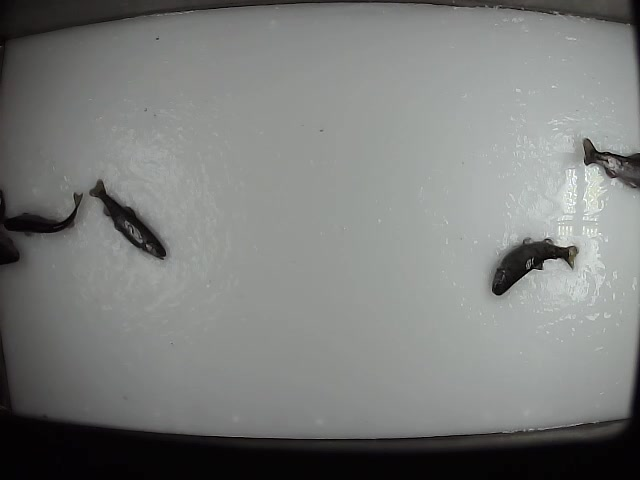fish: (87, 176, 170, 259), (489, 233, 581, 297), (1, 188, 83, 239)
